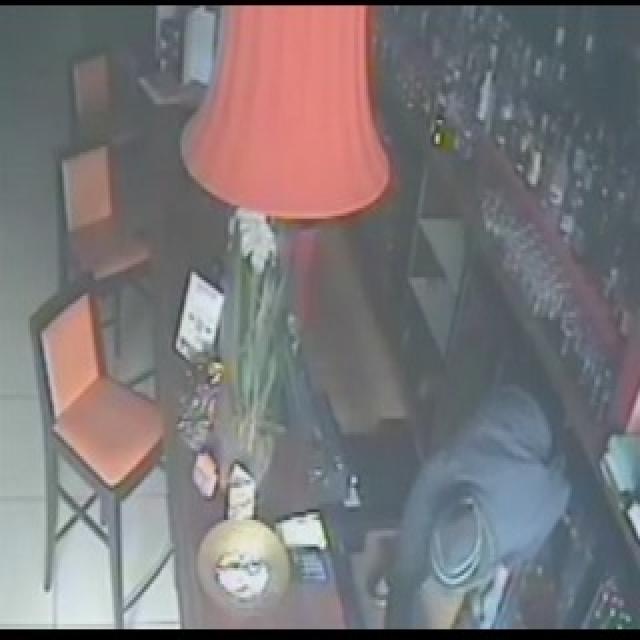thief: (380, 389, 547, 607)
